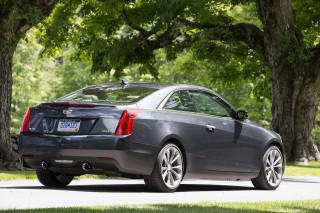cadillac: (60, 107, 74, 116)
